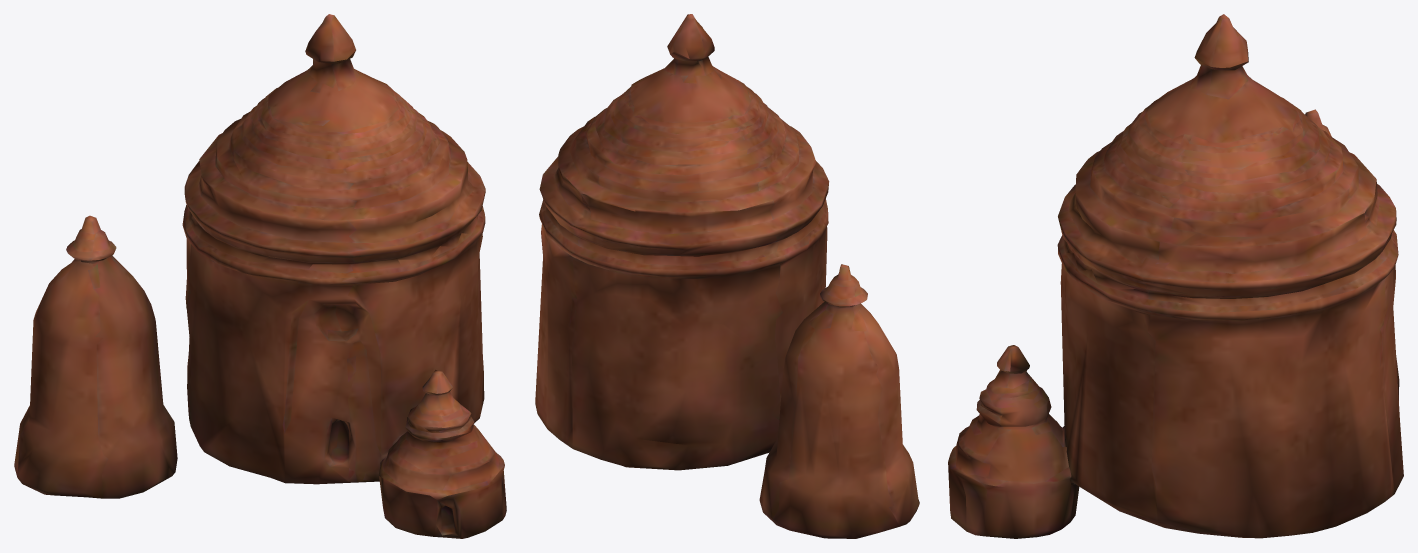
The model's file is worn-terracotta-turret-top-v001.glb.
The picture shows the model from 3 angles, left to right: view 1: azimuth 30°, elevation 25°; view 2: azimuth 150°, elevation 25°; view 3: azimuth 270°, elevation 25°; orthographic projection. The views are drawn at different scales.
Visible parts, largest first — view 1: worn-terracotta-turret-top; view 2: worn-terracotta-turret-top; view 3: worn-terracotta-turret-top.
Boxes of the visible parts, x1,y1,x2,y2 form: worn-terracotta-turret-top: (14,14,506,538); worn-terracotta-turret-top: (535,14,919,538); worn-terracotta-turret-top: (948,14,1403,538).
Bounding box in the file's own units: 2.64 × 2.74 × 2.31.
Materials: 1 (1 with a texture image).
